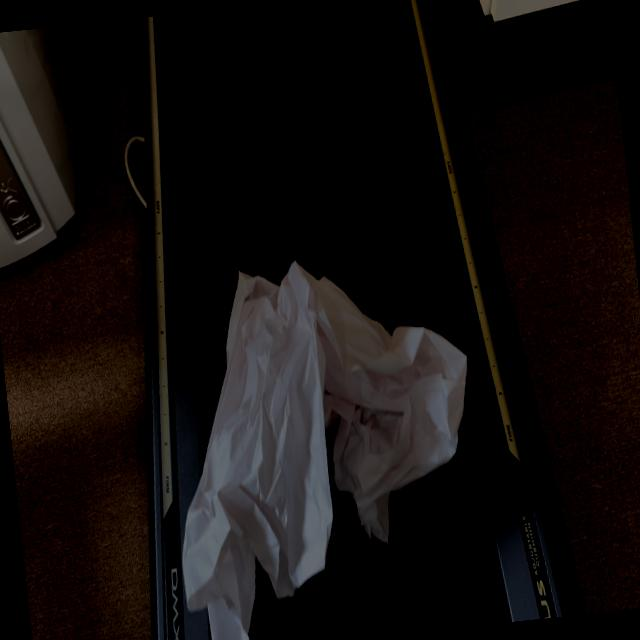Recycle: (150, 238, 496, 640)
